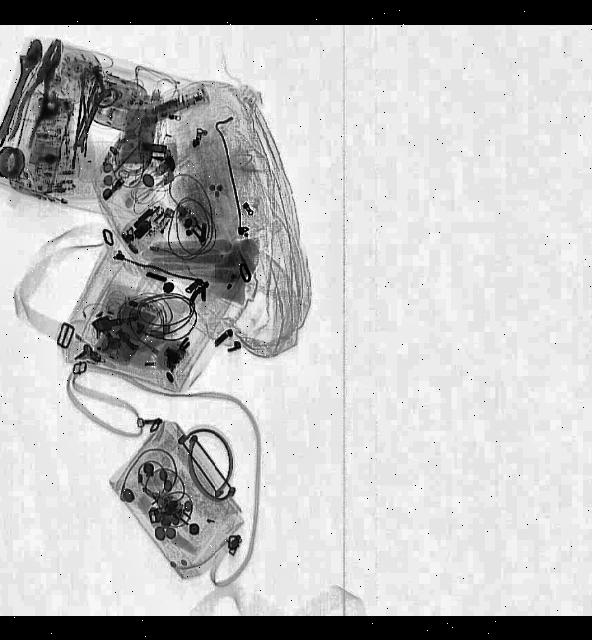Pliers: (6, 34, 72, 148)
Wrench: (0, 33, 49, 149)
